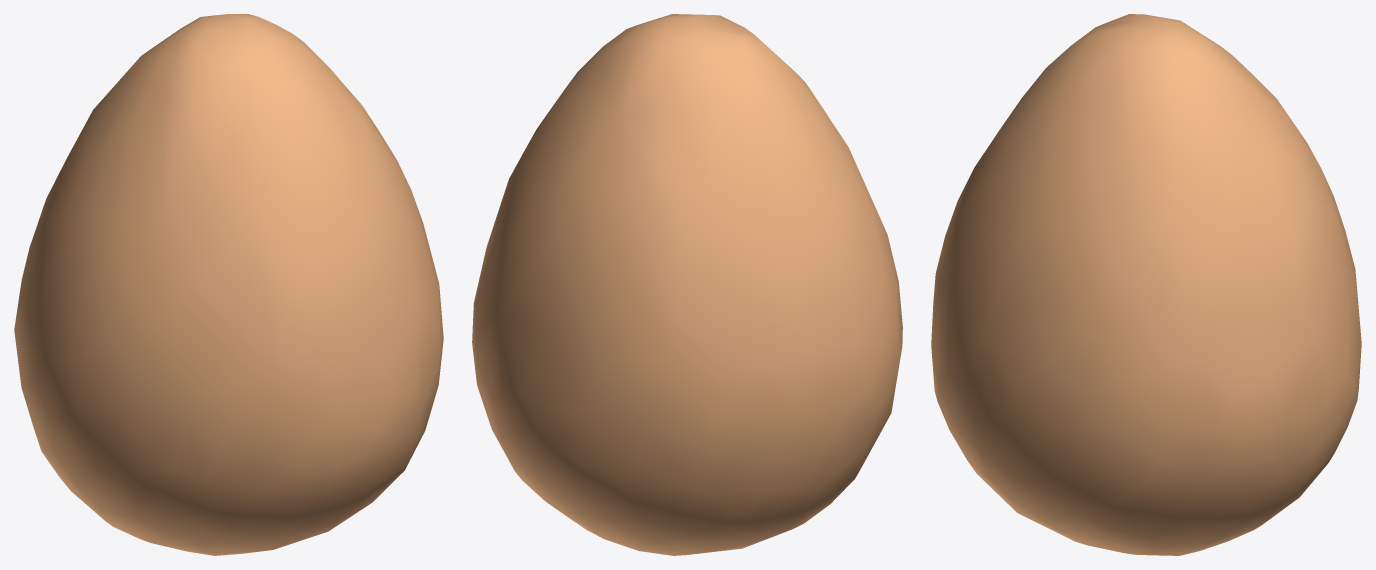
3 renders of one model, left to right at view 1: azimuth 30°, elevation 25°; view 2: azimuth 150°, elevation 25°; view 3: azimuth 270°, elevation 25°, orthographic.
Parts seen in each view (by area): view 1: 달걀-1; view 2: 달걀-1; view 3: 달걀-1.
Boxes of the visible parts, bbox=[...] form: 달걀-1: bbox=[14, 14, 443, 555]; 달걀-1: bbox=[472, 14, 902, 555]; 달걀-1: bbox=[931, 14, 1361, 555].
Size of the model in its own units: 8.15 by 10.56 by 8.08.
